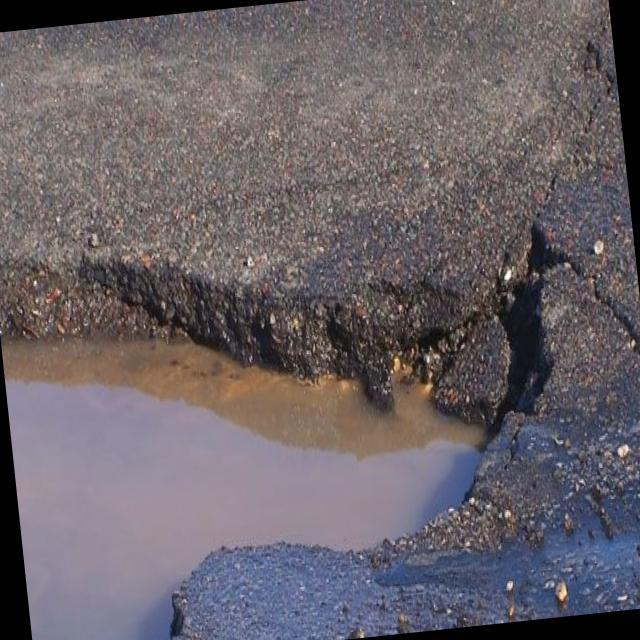Pothole: (0, 181, 554, 640)
